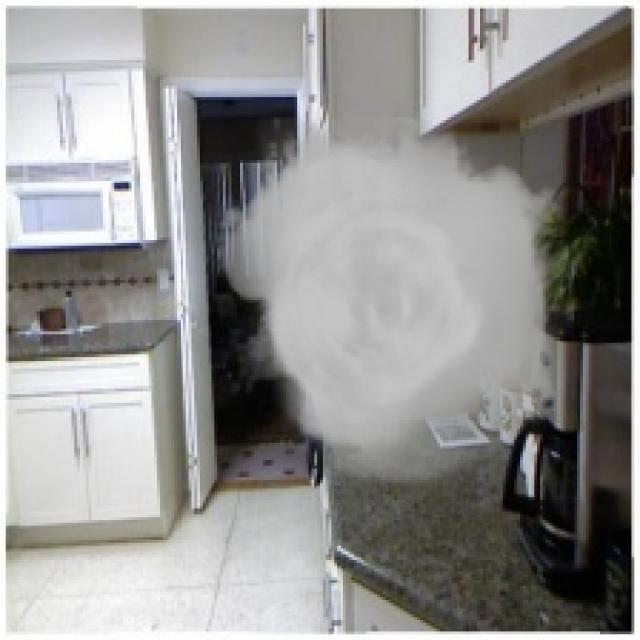Smoke: (206, 117, 574, 486)
